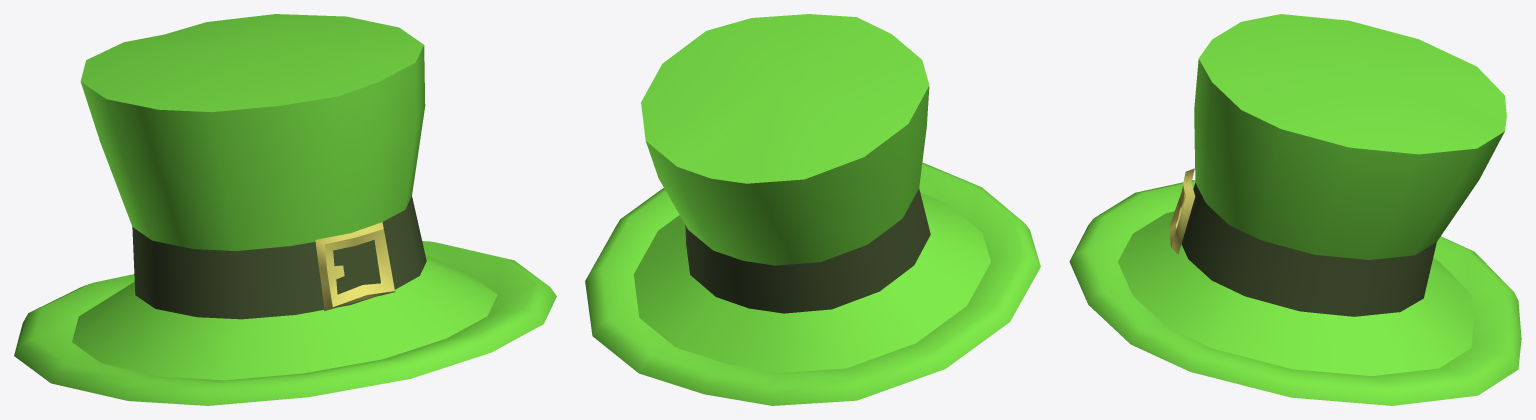
File: hat_irish.fbx
The picture shows the model from 3 angles, left to right: view 1: azimuth 30°, elevation 25°; view 2: azimuth 150°, elevation 25°; view 3: azimuth 270°, elevation 25°; orthographic projection. The views are drawn at different scales.
Visible parts, largest first — view 1: hat_irish; view 2: hat_irish; view 3: hat_irish.
Boxes of the visible parts, left/top/right/bottom form: hat_irish: left=14, top=14, right=556, bottom=405; hat_irish: left=585, top=14, right=1040, bottom=405; hat_irish: left=1069, top=14, right=1521, bottom=405.
Size of the model in its own units: 1.19 by 0.7758 by 1.12.
